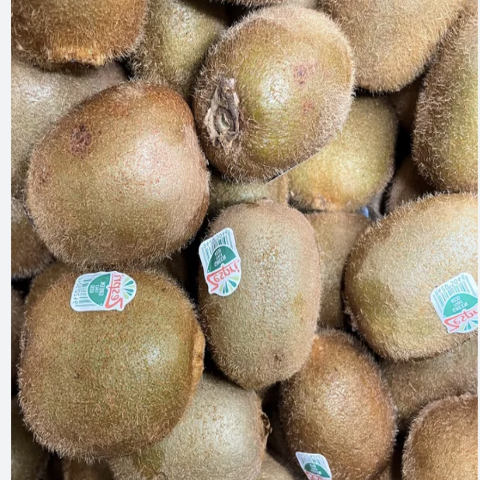kiwi: (14, 247, 220, 461), (23, 79, 228, 289), (159, 4, 383, 176), (192, 179, 342, 395), (344, 186, 480, 383)
